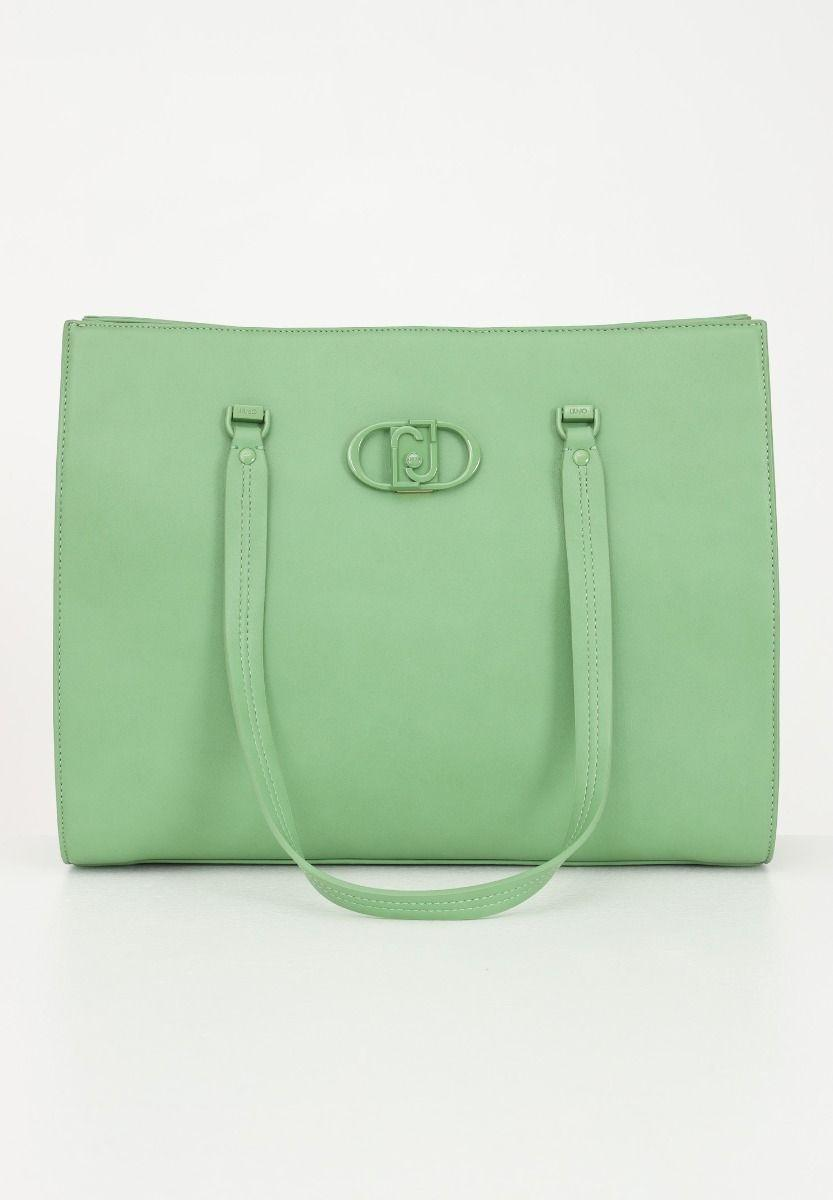LIU-JO: (392, 423, 439, 488)
